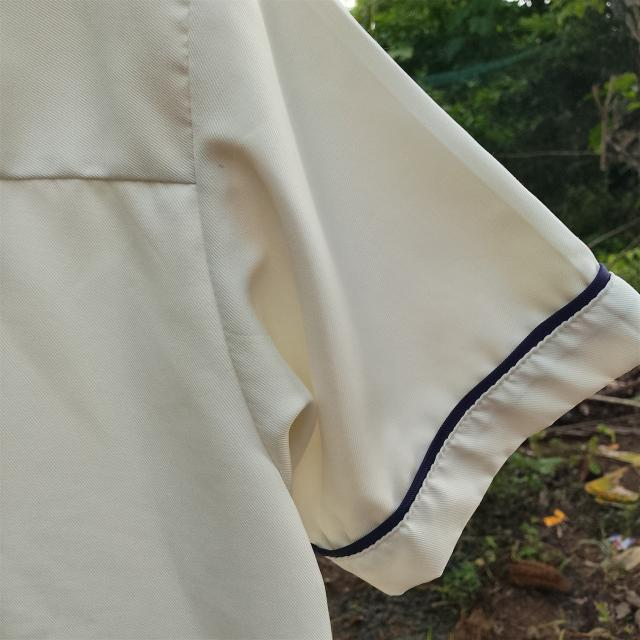education_male_uniform: (106, 3, 640, 600)
